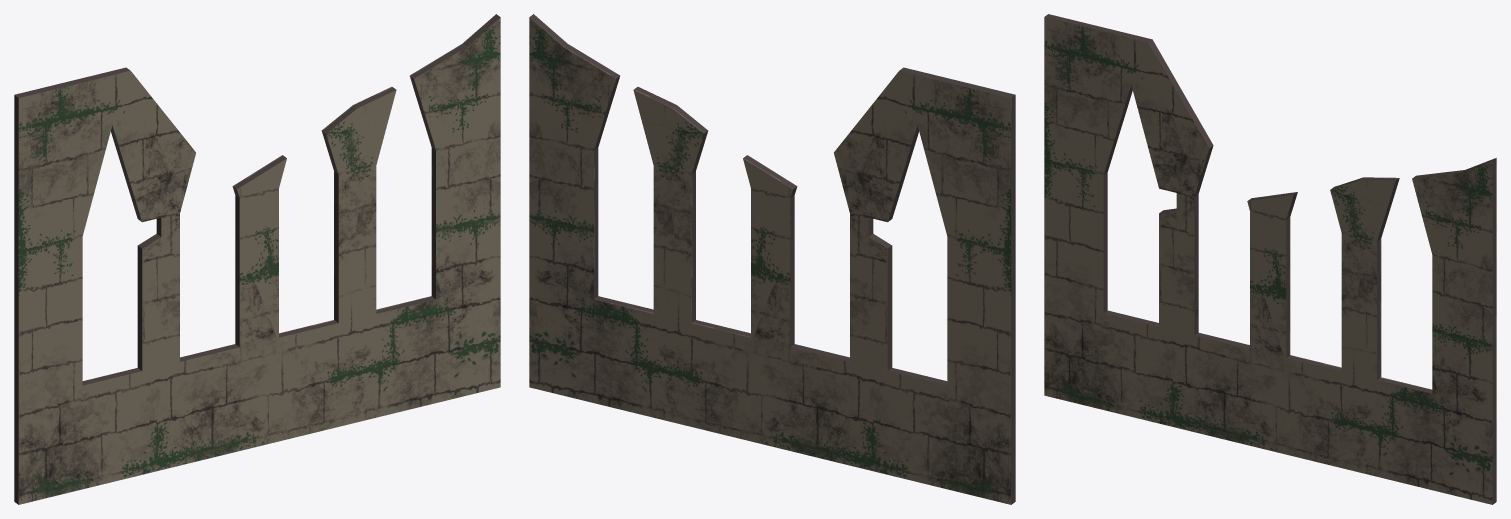
File: mur II_2.FBX
3 renders of one model, left to right at view 1: azimuth 30°, elevation 25°; view 2: azimuth 150°, elevation 25°; view 3: azimuth 330°, elevation 25°, orthographic. The views are drawn at different scales.
Visible parts, largest first — view 1: II 2; view 2: II 2; view 3: II 2.
Part boxes in pixels (x1,y1,x2,y2): II 2: (14, 14, 500, 504); II 2: (529, 14, 1015, 504); II 2: (1044, 14, 1496, 504).
Size of the model in its own units: 29.66 by 23.92 by 0.4794.
